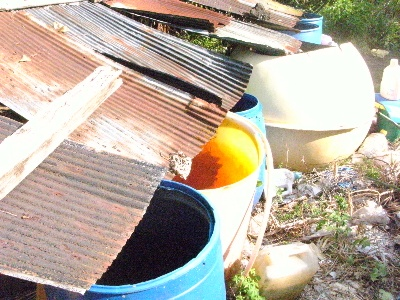bottle: (380, 55, 400, 103)
bucket: (256, 241, 322, 300)
water_tower: (230, 43, 378, 175)
